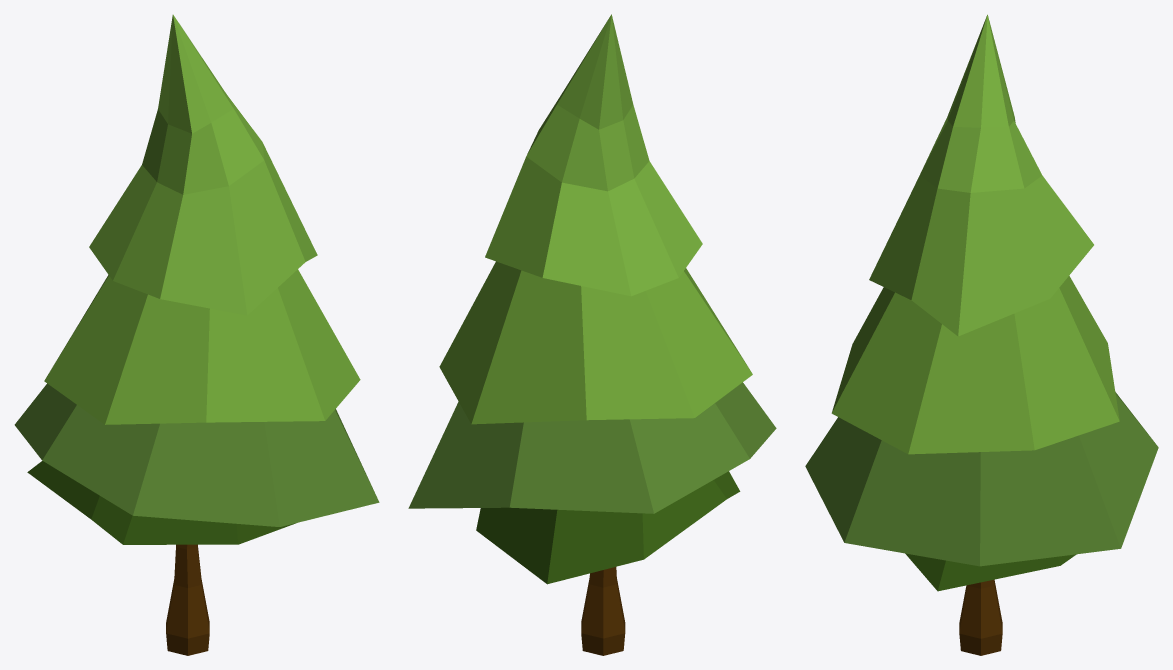
File: [3D] Pine_01.fbx
3 views of the same model, side by side, from view 1: azimuth 30°, elevation 25°; view 2: azimuth 150°, elevation 25°; view 3: azimuth 270°, elevation 25° (orthographic).
Parts seen in each view (by area): view 1: Pine1; view 2: Pine1; view 3: Pine1.
Part boxes in pixels (x1,y1,x2,y2): Pine1: (14, 14, 379, 655); Pine1: (408, 14, 776, 655); Pine1: (805, 14, 1158, 655).
Bounding box in the file's own units: 216 × 432 × 221.
